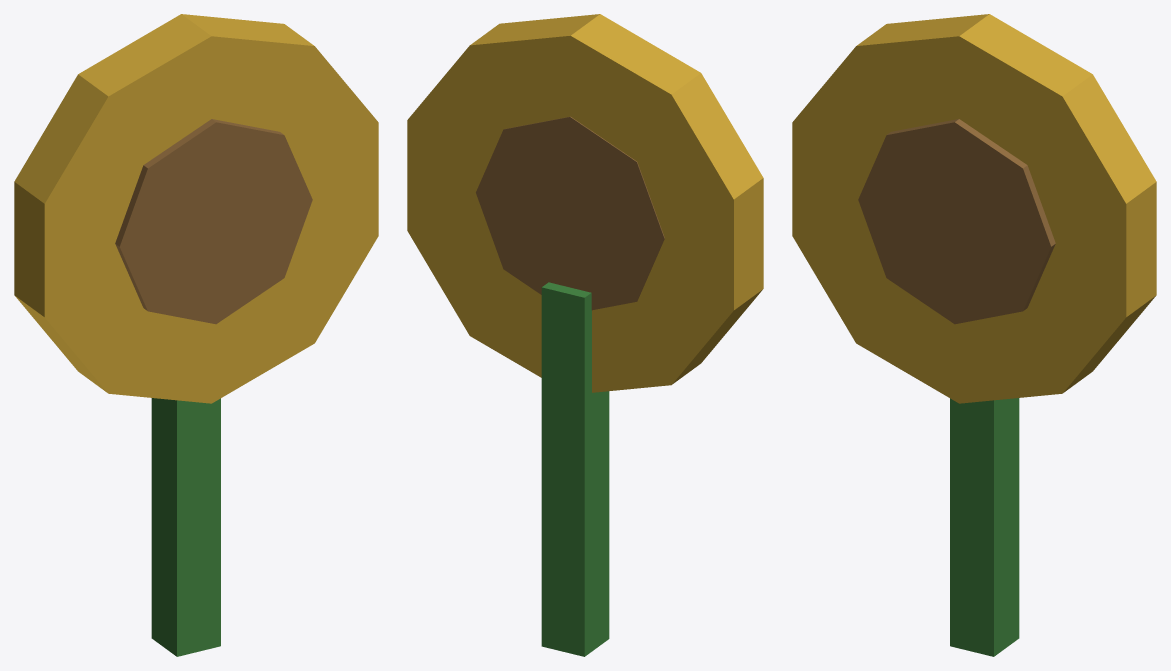
File: oilseed.fbx
3 renders of one model, left to right at view 1: azimuth 30°, elevation 25°; view 2: azimuth 150°, elevation 25°; view 3: azimuth 330°, elevation 25°, orthographic. The views are drawn at different scales.
Parts seen in each view (by area): view 1: oilseed; view 2: oilseed; view 3: oilseed.
Boxes of the visible parts, x1=… form: oilseed: x1=14, y1=14, x2=378, y2=656; oilseed: x1=407, y1=14, x2=763, y2=656; oilseed: x1=792, y1=14, x2=1156, y2=656.
Bounding box in the file's own units: 0.5706 × 1.02 × 0.126.
